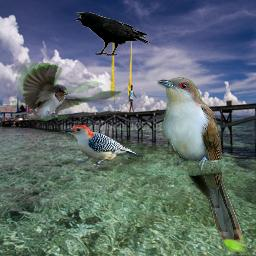Crow: (74, 12, 150, 56)
Cuckoo: (157, 77, 247, 253)
Swallow: (12, 63, 122, 121)
Woodpecker: (61, 125, 138, 167)
